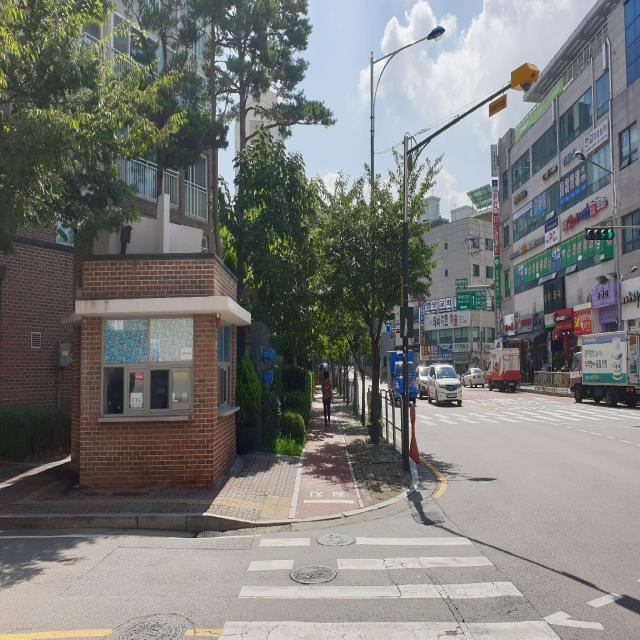횡단보도: (216, 533, 561, 640)
